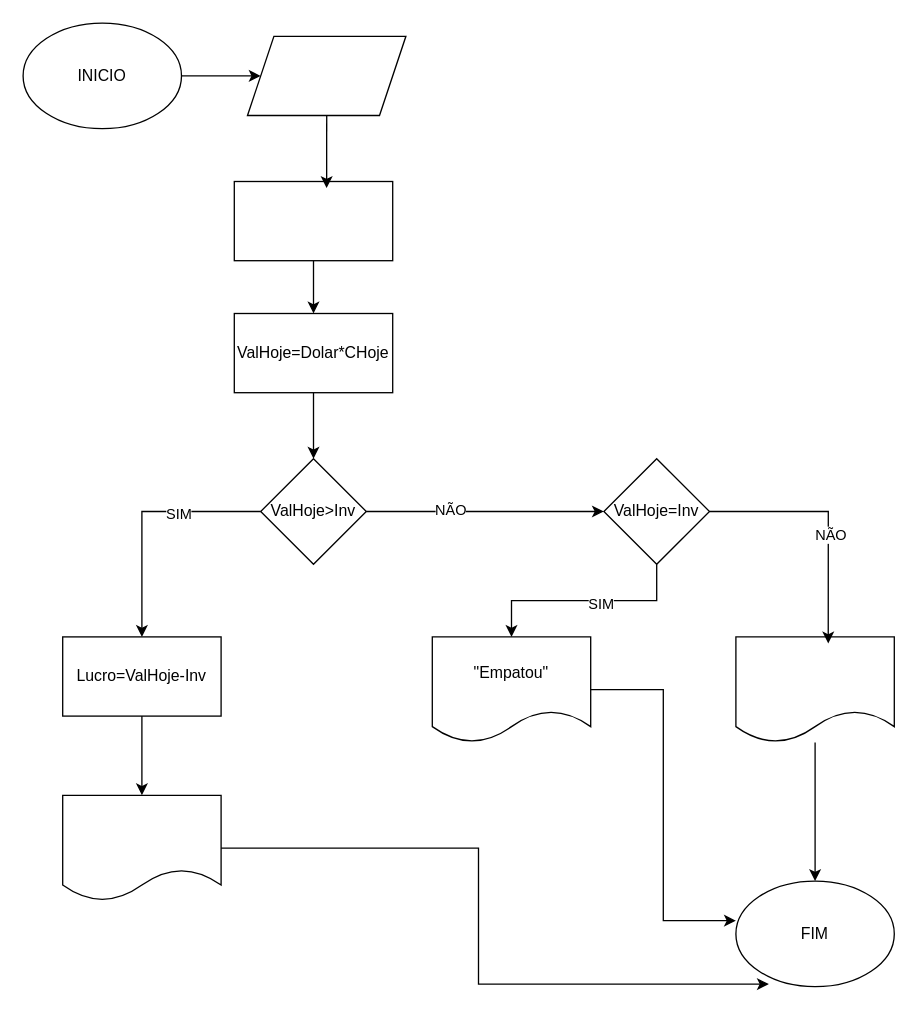
The diagram is 917 pixels wide and 1018 high, and some of its shapes have lost their labels. The centre of each missing label's shape, as x and y in pixels:
"Prejuízo="+Lucro: (814,689)
"Saque="+Lucro: (141,847)
CAnt, Inv, CHoje: (326,75)
Dolar=Inv/CAnt: (313,220)
